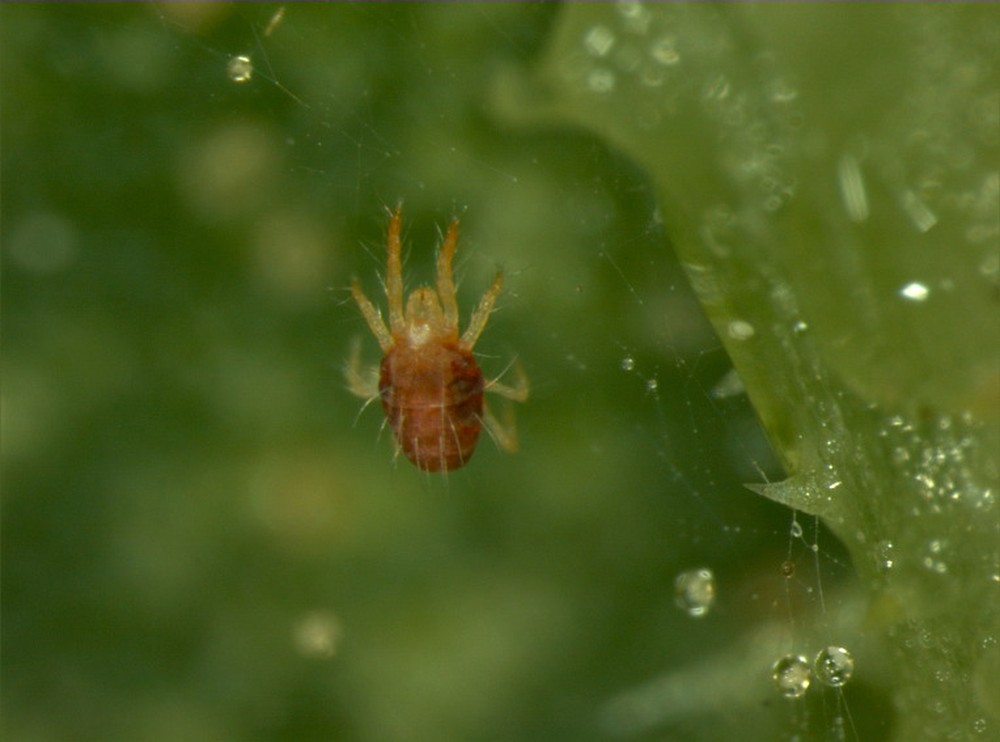Aracnido Rojo: (308, 175, 568, 506)
